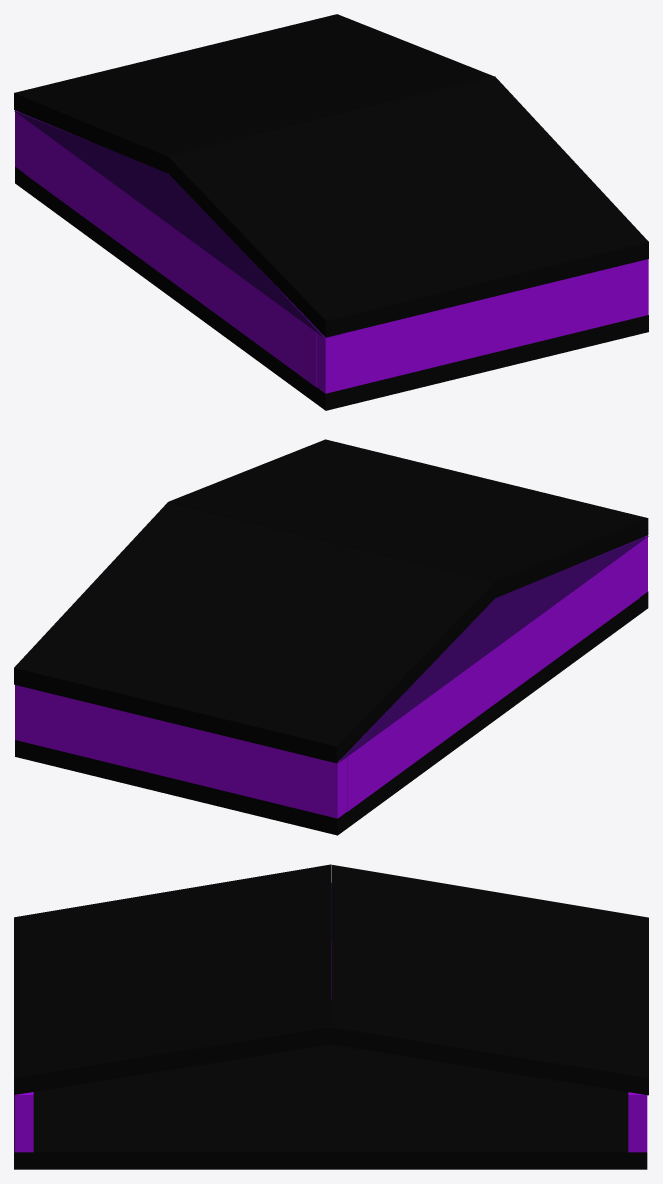
Rendered from spawnhouse.fbx.
3 views of the same model, one above another, from view 1: azimuth 30°, elevation 25°; view 2: azimuth 150°, elevation 25°; view 3: azimuth 270°, elevation 25° (orthographic).
Parts seen in each view (by area): view 1: Roof_left, Roof_right, Wall_left, Wall_back, Ground, Gable_wall; view 2: Roof_right, Roof_left, Wall_right, Wall_back, Ground, Gable_wall; view 3: Ground, Roof_right, Roof_left, Wall_left, Wall_right.
Part boxes in pixels (x1,y1,x2,y2): Roof_left: (168,76,648,337); Roof_right: (14,14,494,173); Wall_left: (316,259,648,393); Wall_back: (23,118,316,386); Ground: (15,167,648,410); Gable_wall: (14,111,340,338); Roof_right: (14,502,494,763); Roof_left: (168,439,648,598); Wall_right: (15,685,346,818); Wall_back: (347,543,639,811); Ground: (15,591,648,835); Gable_wall: (338,536,648,763); Ground: (14,1000,647,1169); Roof_right: (331,865,648,1095); Roof_left: (14,864,331,1094); Wall_left: (14,1092,33,1152); Wall_right: (628,1092,647,1152).
Size of the model in its own units: 1215 by 500 by 2005.
